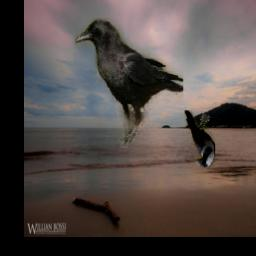Crow: (76, 18, 184, 148), (185, 110, 216, 167)
